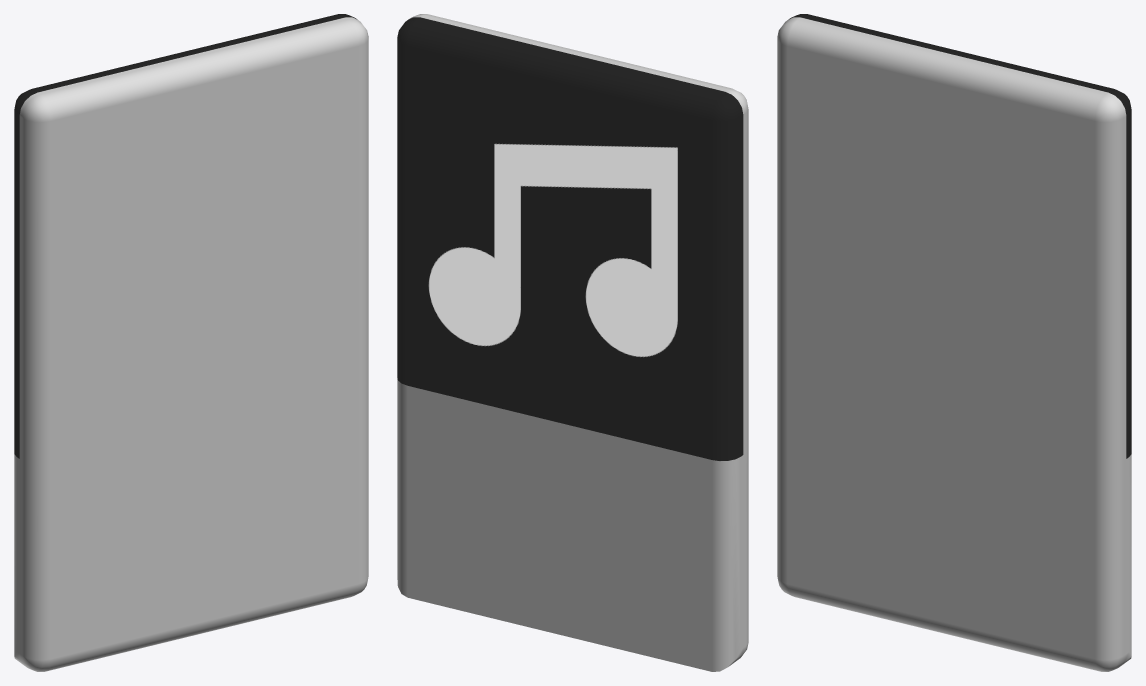
File: body.glb
3 renders of one model, left to right at view 1: azimuth 30°, elevation 25°; view 2: azimuth 150°, elevation 25°; view 3: azimuth 330°, elevation 25°, orthographic.
Parts seen in each view (by area): view 1: body; view 2: body; view 3: body.
Boxes of the visible parts, box(x1,y1,x2,y2) form: body: box(14, 14, 368, 671); body: box(397, 14, 748, 671); body: box(777, 14, 1131, 671).
Size of the model in its own units: 0.075 by 0.12 by 0.01.
2 materials, 1 textured.
